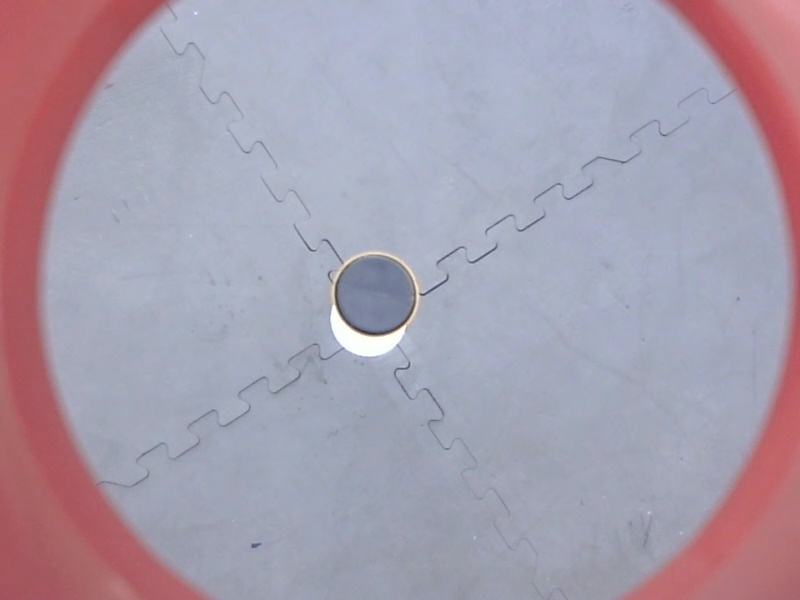tip: (327, 246, 424, 341)
